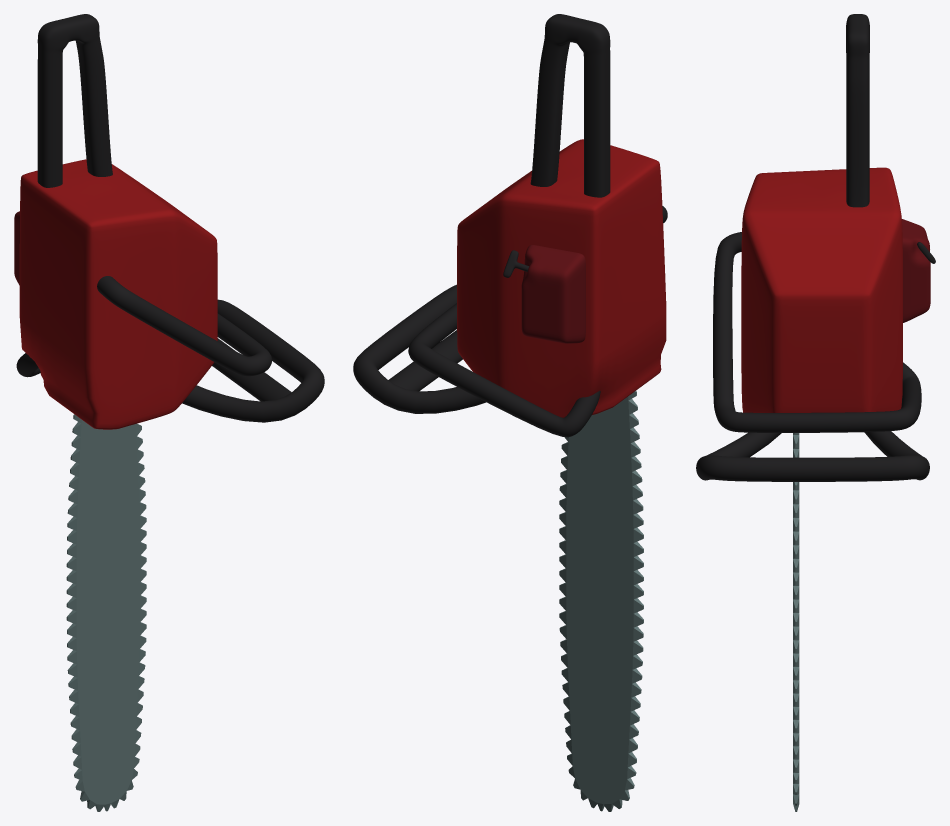
Rendered from ChainsawSolo.glb.
3 renders of one model, left to right at view 1: azimuth 30°, elevation 25°; view 2: azimuth 150°, elevation 25°; view 3: azimuth 270°, elevation 25°, orthographic. The views are drawn at different scales.
Visible parts, largest first — view 1: Head.003; view 2: Head.003; view 3: Head.003.
Boxes of the visible parts, box(x1,y1,x2,y2) form: Head.003: box(14, 14, 324, 811); Head.003: box(353, 14, 667, 811); Head.003: box(696, 14, 935, 811).
Bounding box in the file's own units: 0.9367 × 3.07 × 0.8527.
